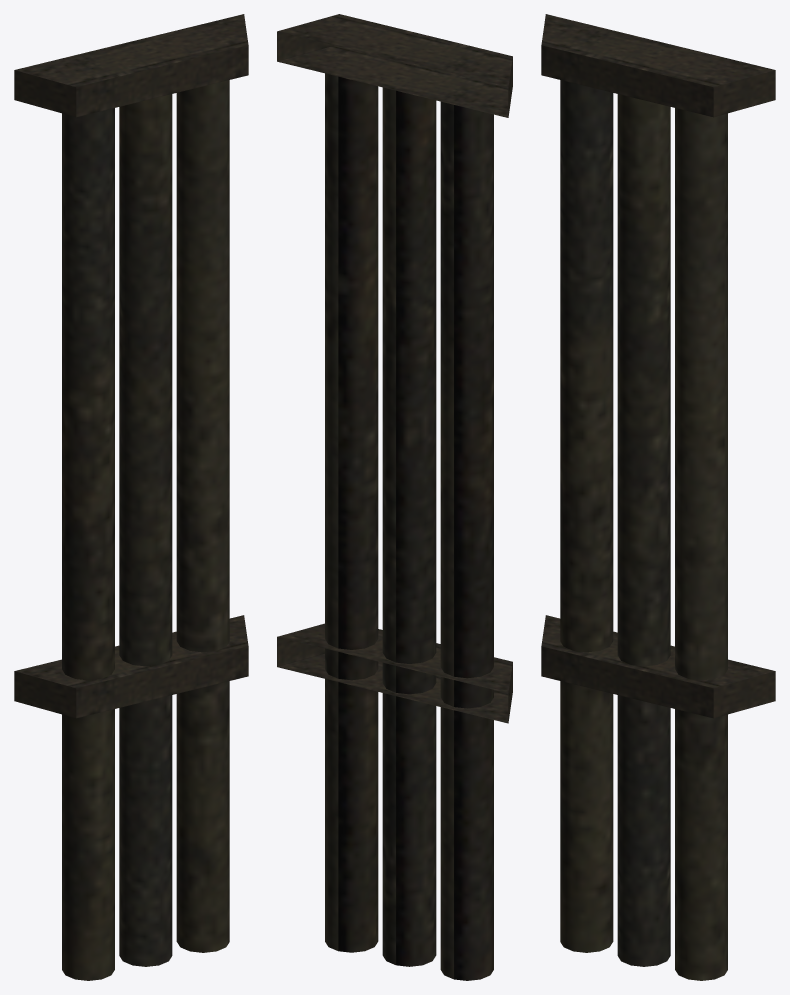
Rendered from pipes_hr_1_vertical_end_2.dae.
3 views of the same model, side by side, from view 1: azimuth 30°, elevation 25°; view 2: azimuth 150°, elevation 25°; view 3: azimuth 330°, elevation 25° (orthographic).
Visible parts, largest first — view 1: pipes_hr_1_vertical_end_2; view 2: pipes_hr_1_vertical_end_2; view 3: pipes_hr_1_vertical_end_2.
Part boxes in pixels (x1,y1,x2,y2): pipes_hr_1_vertical_end_2: [14, 14, 248, 980]; pipes_hr_1_vertical_end_2: [277, 14, 512, 980]; pipes_hr_1_vertical_end_2: [541, 14, 775, 980].
Bounding box in the file's own units: 0.4 × 0.1 × 1.5.
1 material, 1 textured.
